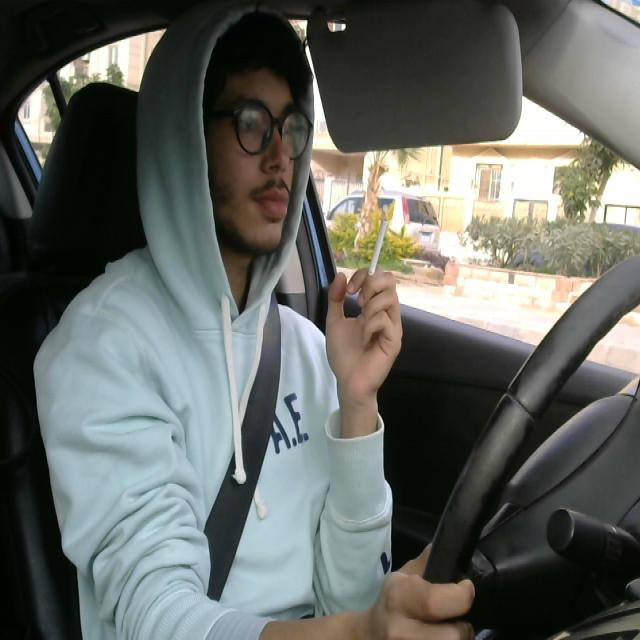smoking: (362, 215, 395, 308)
